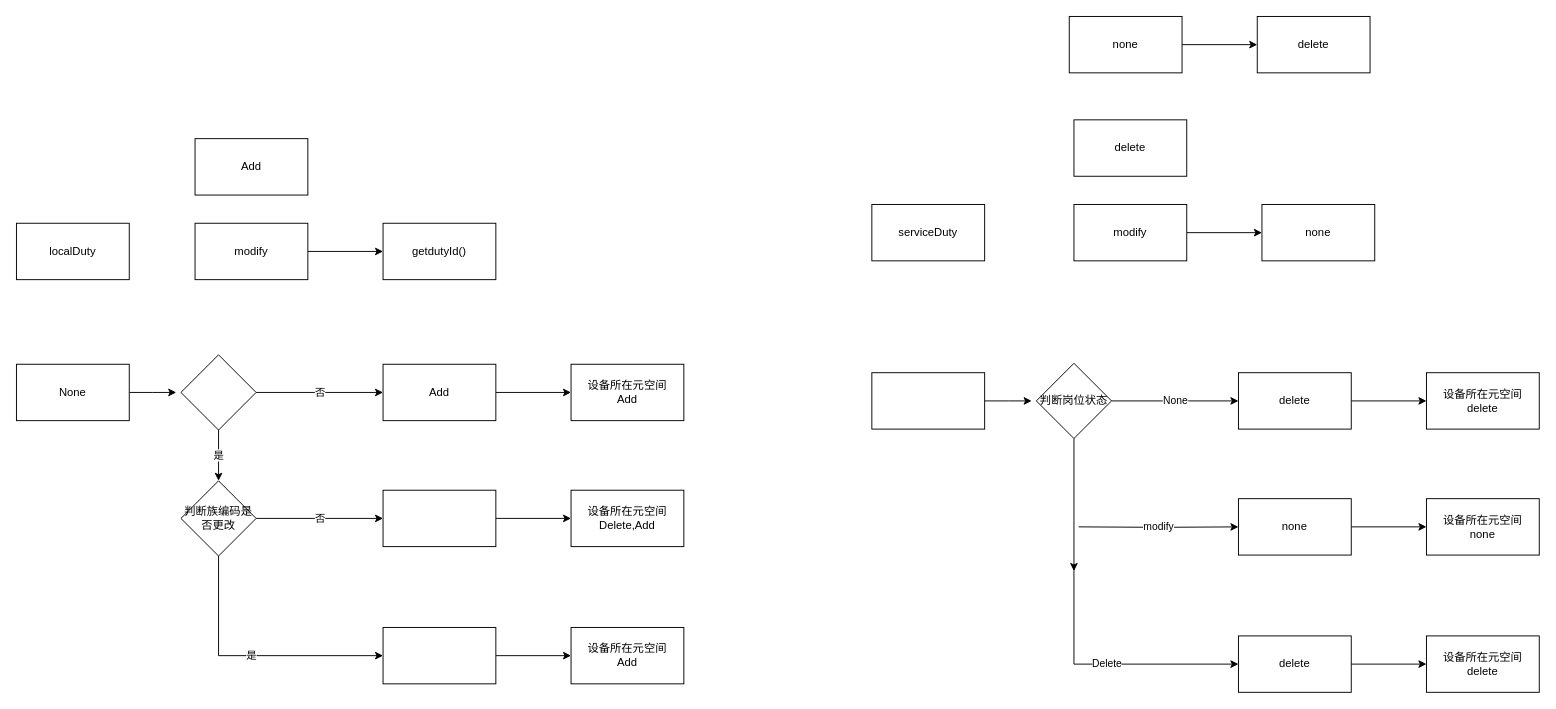
The diagram is 1556 pixels wide and 709 high, and some of its shapes have lost their labels. The shapes that lost their labels are listed below. From the top down, each one's centre as x and y in pixels, then its label:
At (x=218, y=392): "serviceDuty是否找到对应岗位".
At (x=928, y=400): "岗位处理过之后".
At (x=439, y=518): "l.modify s.modify".
At (x=439, y=655): "l.Add s.modify".
